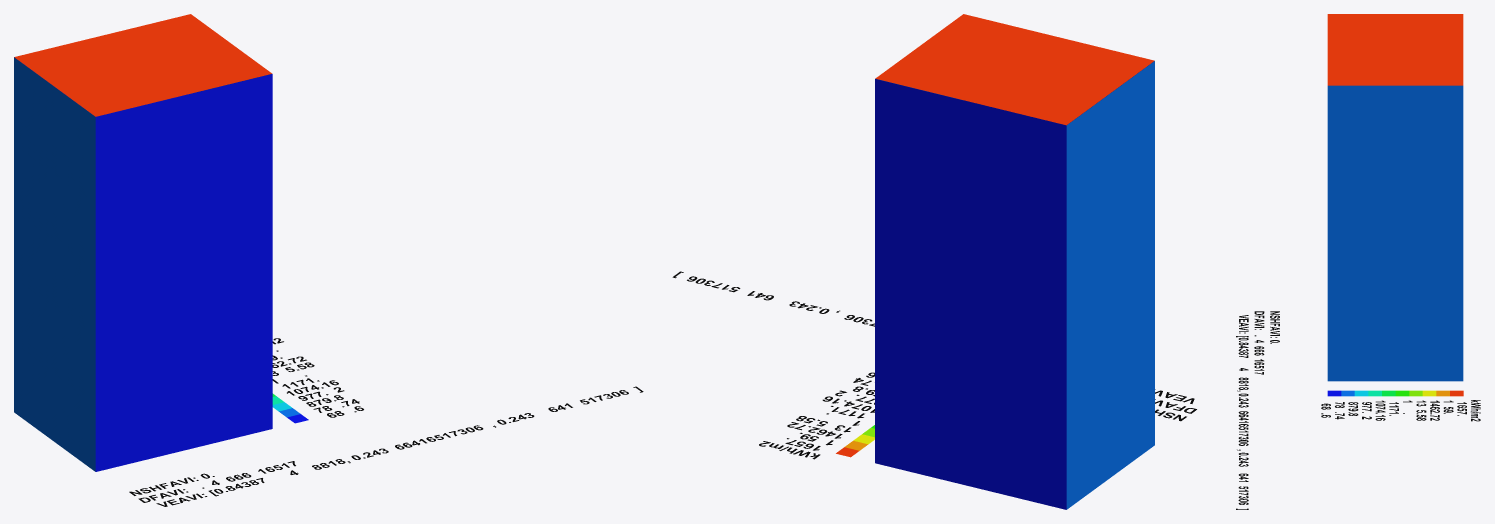
Rendered from example1_part.dae.
3 views of the same model, side by side, from view 1: azimuth 30°, elevation 25°; view 2: azimuth 150°, elevation 25°; view 3: azimuth 270°, elevation 25° (orthographic). The views are drawn at different scales.
Visible parts, largest first — view 1: node0 (×4); view 2: node0 (×4); view 3: node0 (×3).
Boxes of the visible parts, bbox=[...] form: node0 (×4): bbox=[14, 14, 643, 506]; node0 (×4): bbox=[672, 14, 1196, 509]; node0 (×3): bbox=[1236, 14, 1480, 509].
Bounding box in the file's own units: 69.78 × 36.02 × 48.01.
